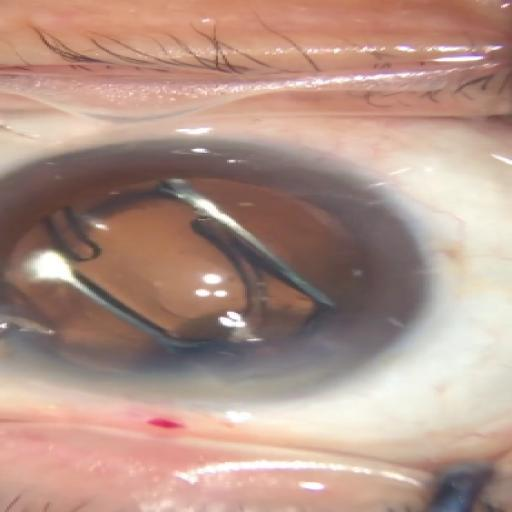cornea: (0, 136, 449, 404)
pupil: (13, 183, 370, 371)
